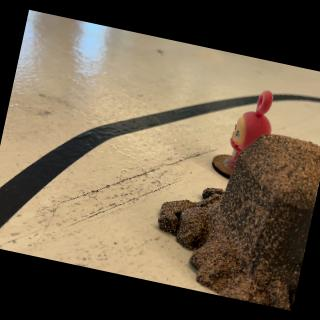teletubby: (228, 90, 272, 168)
